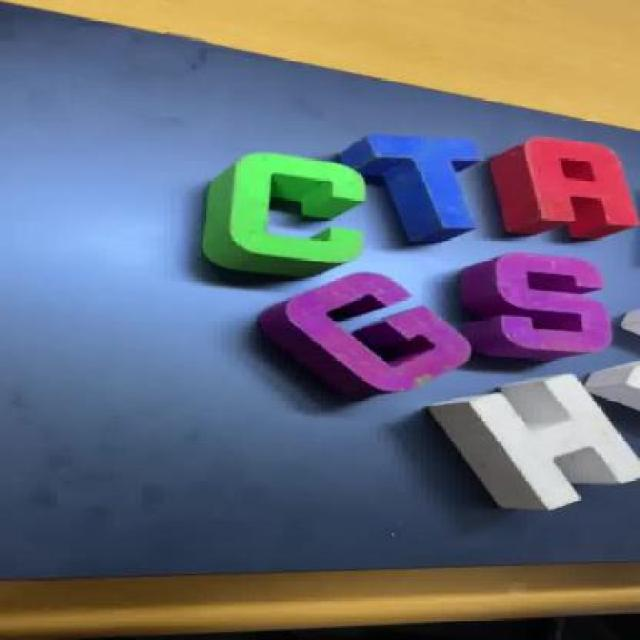A: (482, 134, 638, 240)
C: (192, 153, 373, 279)
G: (263, 275, 474, 400)
H: (426, 376, 640, 513)
S: (459, 255, 608, 362)
T: (336, 133, 489, 250)
